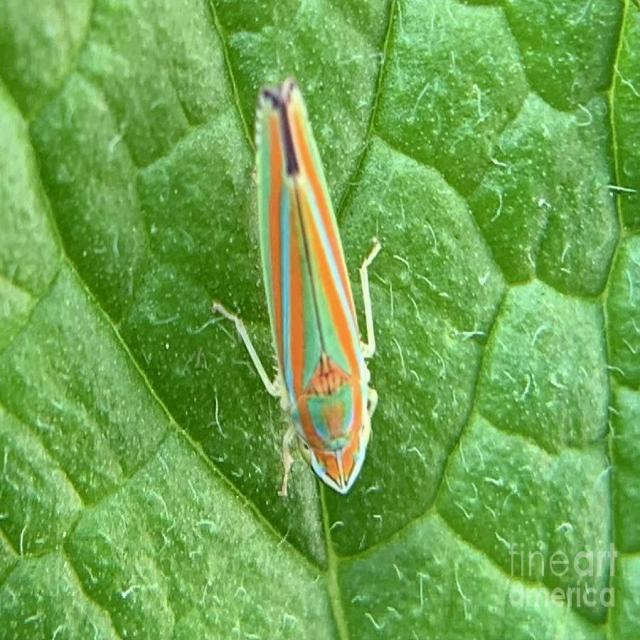Yechan: (212, 75, 400, 510)
